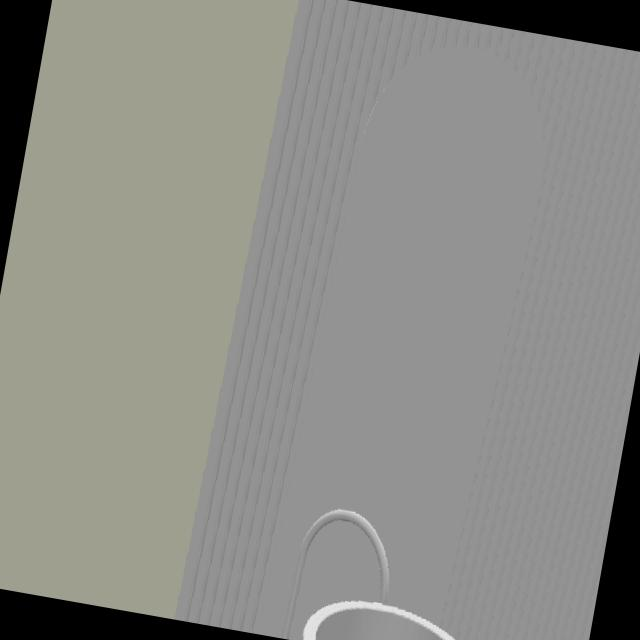washbasin: (299, 599, 454, 640)
